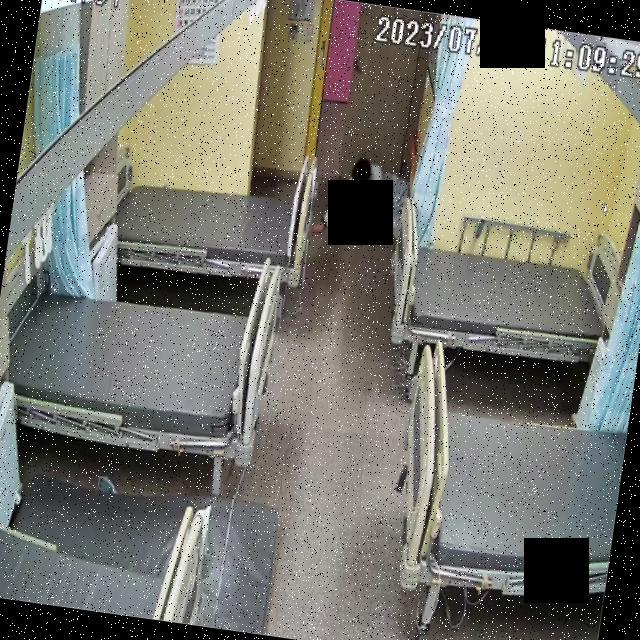bed: (384, 338, 636, 611), (0, 275, 278, 463), (380, 223, 628, 373), (111, 164, 312, 287)
fall: (310, 152, 416, 248)
patient: (307, 152, 414, 248)
